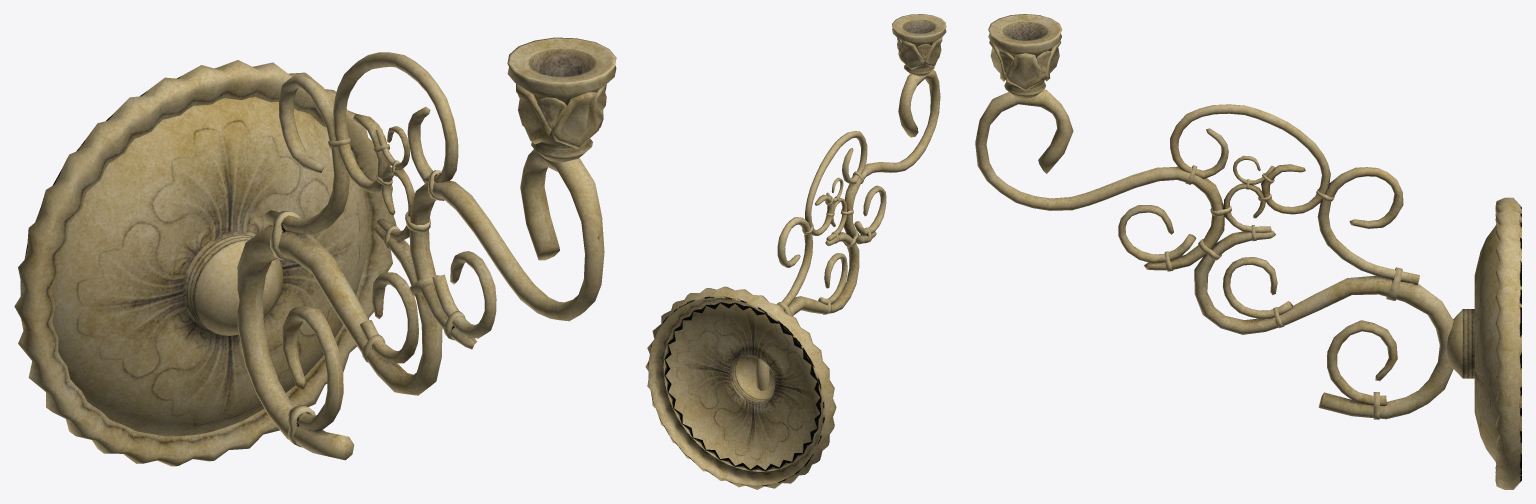
Rendered from candelabra.glb.
The picture shows the model from 3 angles, left to right: view 1: azimuth 30°, elevation 25°; view 2: azimuth 150°, elevation 25°; view 3: azimuth 270°, elevation 25°; orthographic projection. The views are drawn at different scales.
Parts seen in each view (by area): view 1: 2ndFlr_Candelabra_06; view 2: 2ndFlr_Candelabra_06; view 3: 2ndFlr_Candelabra_06.
Part boxes in pixels (<box>): 2ndFlr_Candelabra_06: <box>14,37,616,466</box>; 2ndFlr_Candelabra_06: <box>645,14,946,489</box>; 2ndFlr_Candelabra_06: <box>975,14,1521,489</box>.
Size of the model in its own units: 15.99 by 26.95 by 29.89.
1 material, 1 textured.
